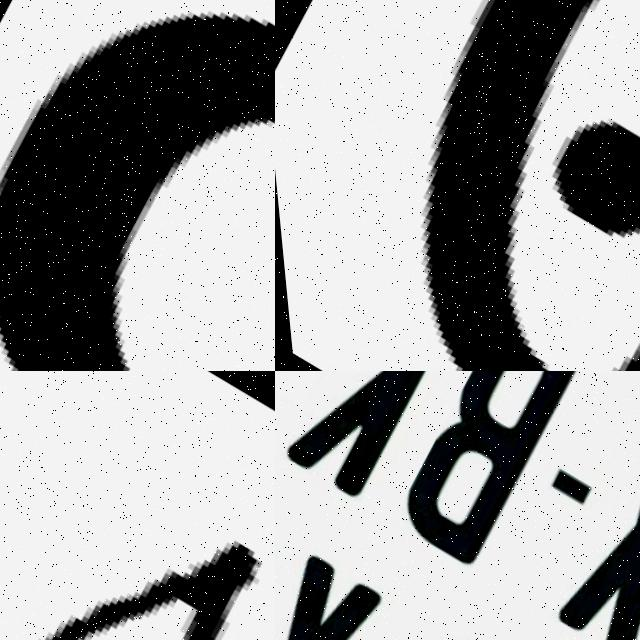0: (275, 0, 640, 371)
B: (369, 371, 604, 568)
D: (0, 0, 275, 371)
K: (275, 371, 488, 500)
M: (0, 371, 275, 640)
X: (528, 399, 640, 640)
